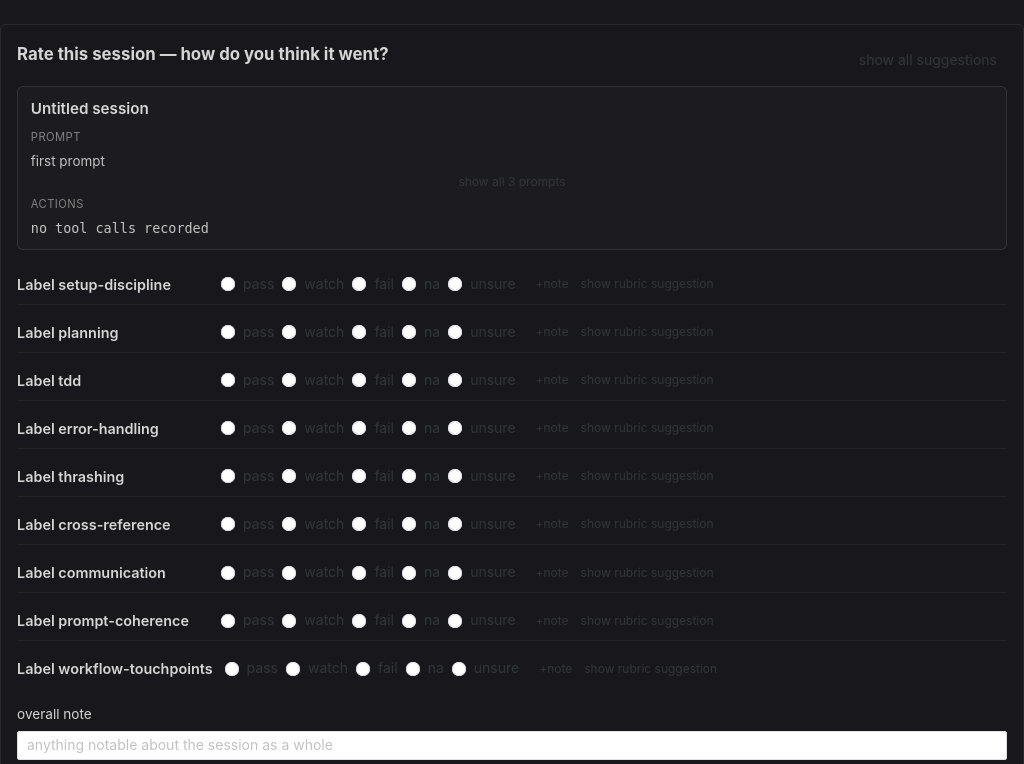
RatingSurvey context panel — prompts › the "show all N prompts" expander reveals the remaining prompts inline
Click the button with test id "survey-context-prompts-toggle": (512, 182) [31,176,993,188]
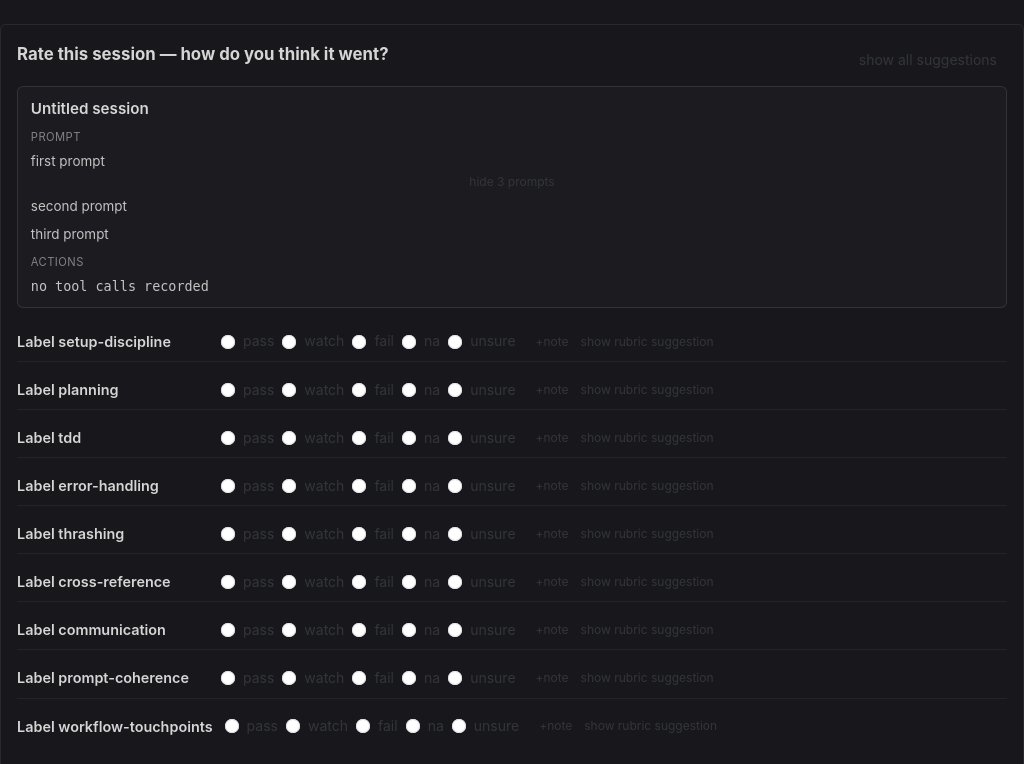
Expected: the list with test id "survey-context-prompts-more" is shown, [31,198,127,242]
Expected: the list with test id "survey-context-prompts-more" shows "second prompt", [31,198,127,214]
Expected: the list with test id "survey-context-prompts-more" shows "third prompt", [31,226,109,242]
